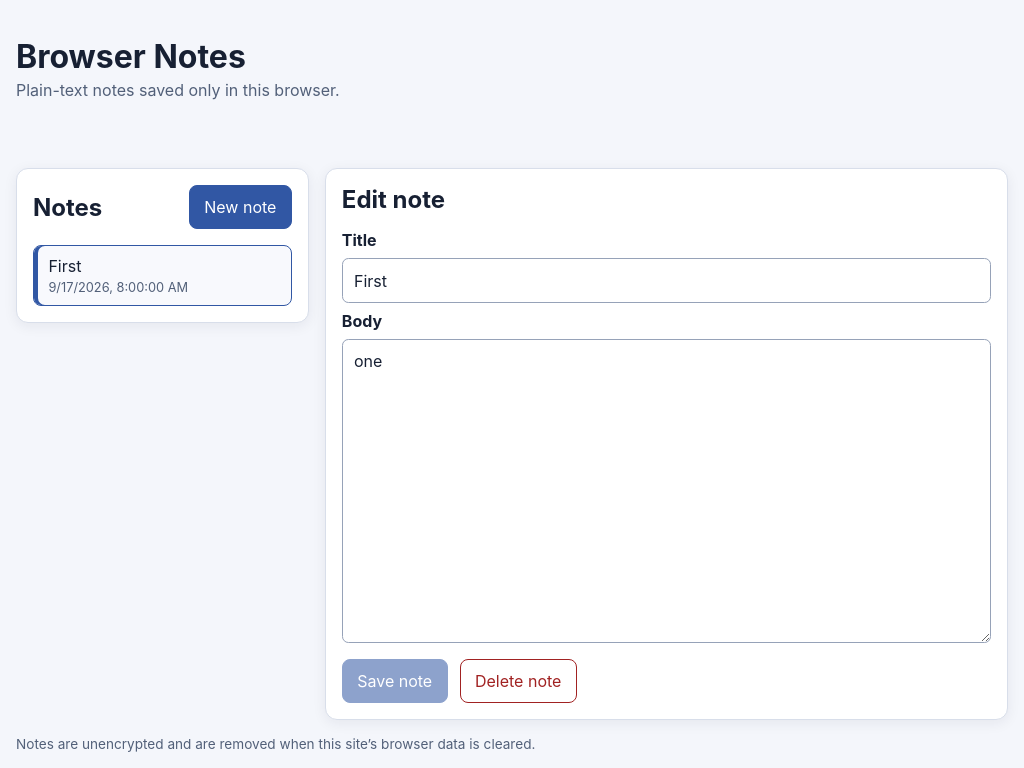
Test: Browser Notes application › blocks further mutations after a corrupt commit result
The width and height of the screenshot is (1024, 768).
Type " dirty" into the text box labelled "Body" at (666, 491), box top-left (342, 339), bottom-right (991, 643)
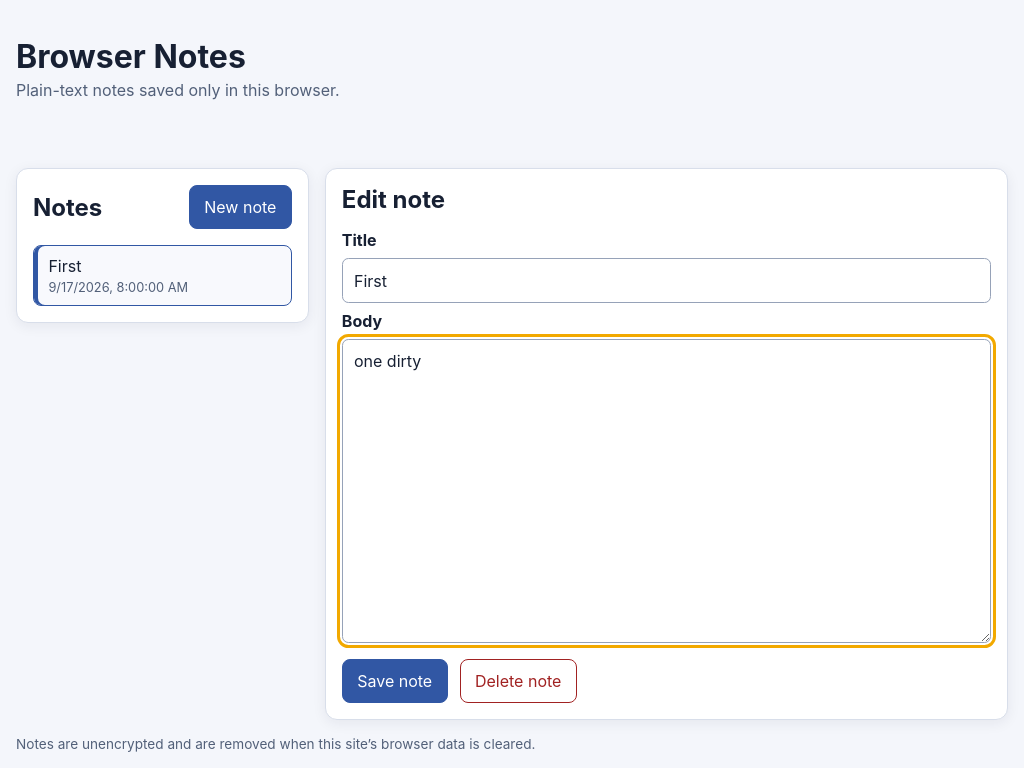
Click the button "Save note" at (395, 681), box top-left (342, 659), bottom-right (448, 703)
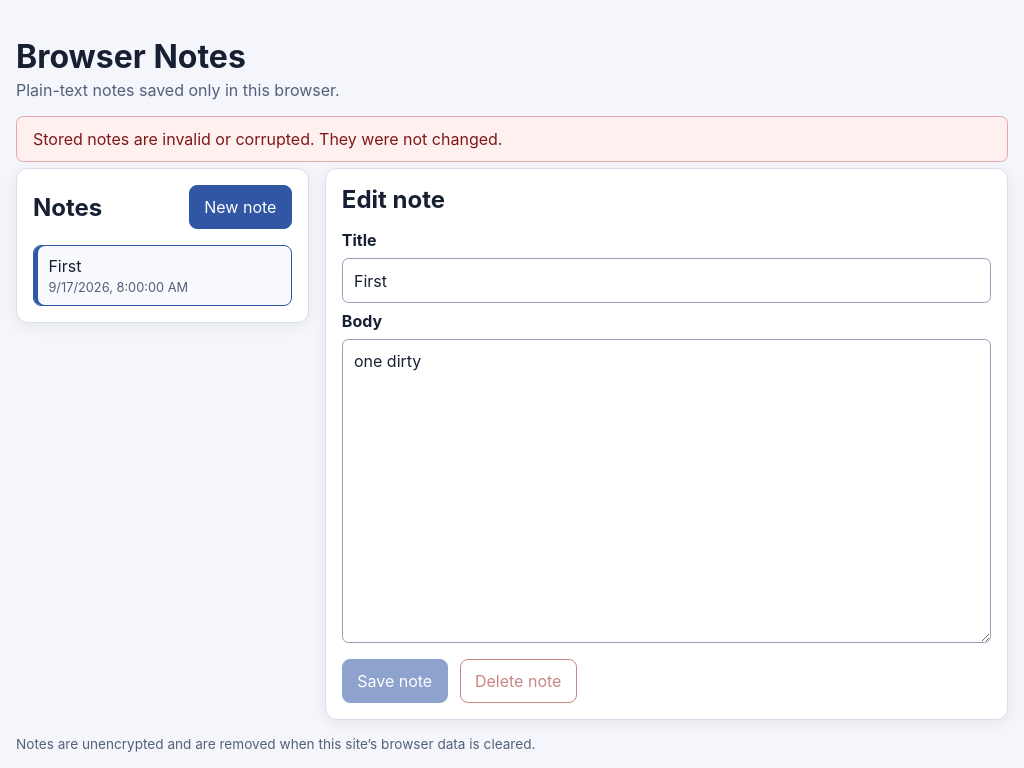
Expected: the button "Save note" is disabled, top-left (342, 659), bottom-right (448, 703)
Expected: the button "Delete note" is disabled, top-left (460, 659), bottom-right (577, 703)
